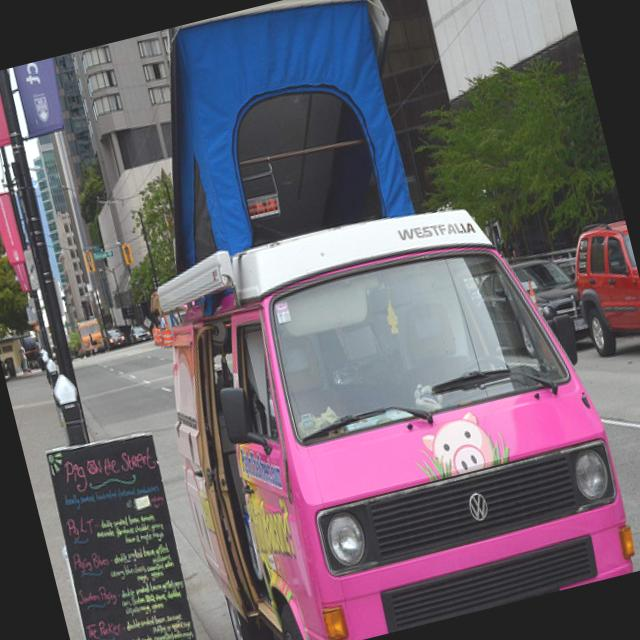Vehicle: (130, 166, 640, 640), (473, 250, 590, 364), (560, 219, 640, 373), (76, 316, 108, 358), (126, 322, 152, 344), (105, 328, 126, 350)
